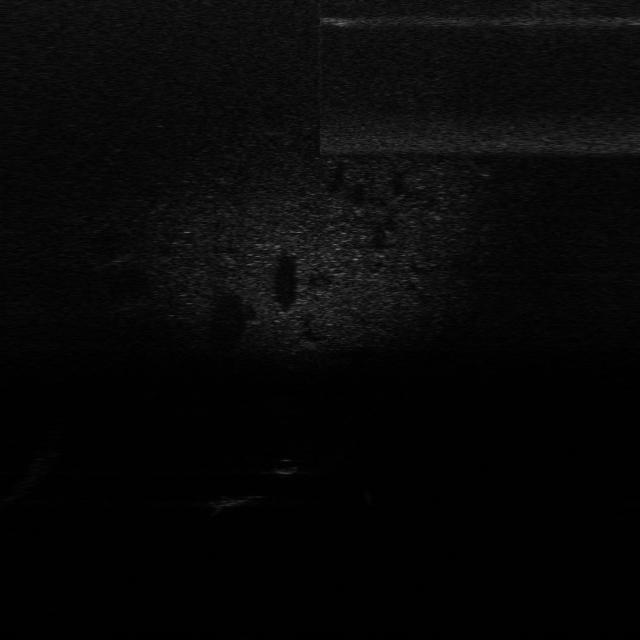ball: (270, 456, 302, 477)
square cage: (208, 486, 267, 512)
